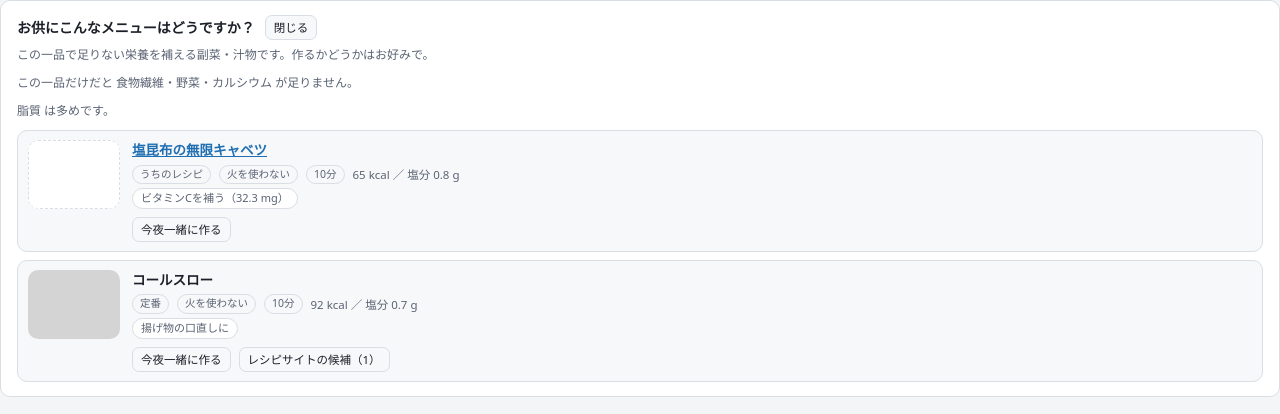
Scenario: kitchen — お供の提案（ADR-021 D5） › 閉じると畳まれ、この端末に覚えておく
Expected: the heading "お供にこんなメニューはどうですか？" is shown, [17,17,255,38]
What coordinates should you click on to do the following:
click the button "閉じる"
I would click on:
 (291, 28)
Its box is [265,15,317,40].
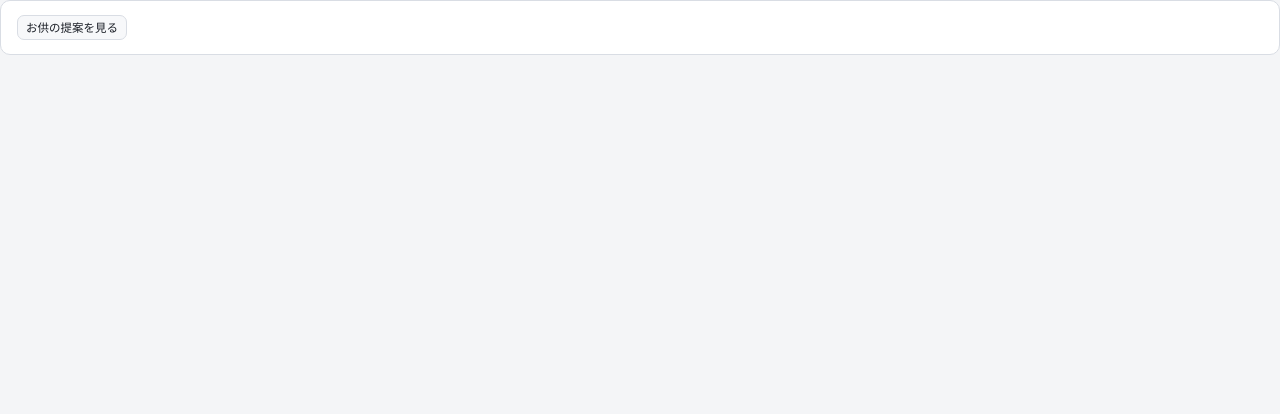
Expected: the heading "お供にこんなメニューはどうですか？" is gone
Expected: the button "お供の提案を見る" is shown, [17,15,127,40]
